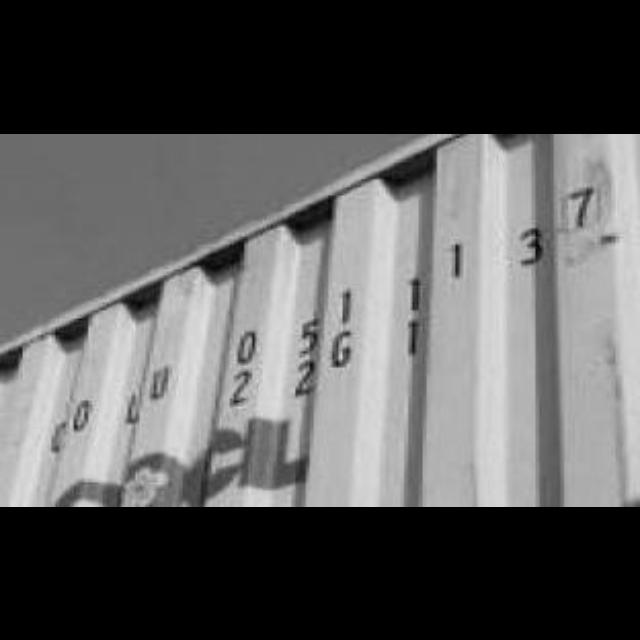0: (230, 321, 262, 367)
1: (396, 310, 432, 362), (444, 236, 471, 284), (333, 281, 359, 327), (402, 273, 428, 317)
2: (219, 364, 259, 414), (287, 351, 323, 403)
3: (510, 216, 554, 278)
5: (294, 316, 326, 356)
7: (564, 172, 604, 240)
g: (329, 322, 359, 373)
l: (119, 384, 149, 432)
o: (67, 386, 96, 438), (44, 413, 72, 455)
u: (146, 354, 176, 404)
